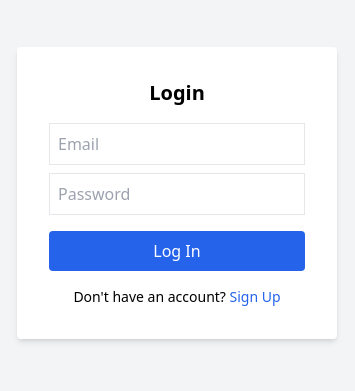
Test: Login Page › handles login failure and displays error message
The width and height of the screenshot is (355, 391).
Type "test@example.com" into the field with placeholder "Email". click: (177,144)
box: [49,123,305,165]
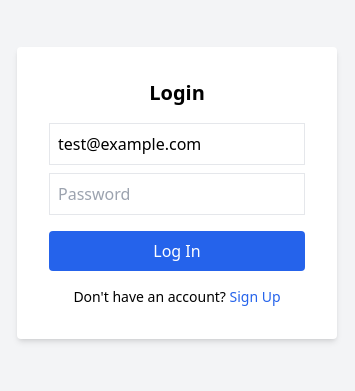
Type "wrongpassword" into the password field with placeholder "Password". click: (177,194)
box: [49,173,305,215]
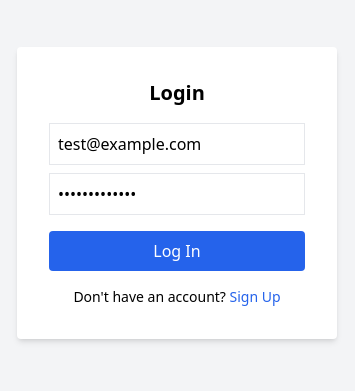
Click the button "Log In". click: (177,251)
box: [49,231,305,271]
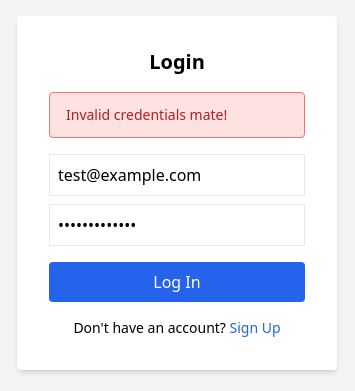
Check: the text "Invalid credentials mate!" is shown, box [49,92,305,138]
